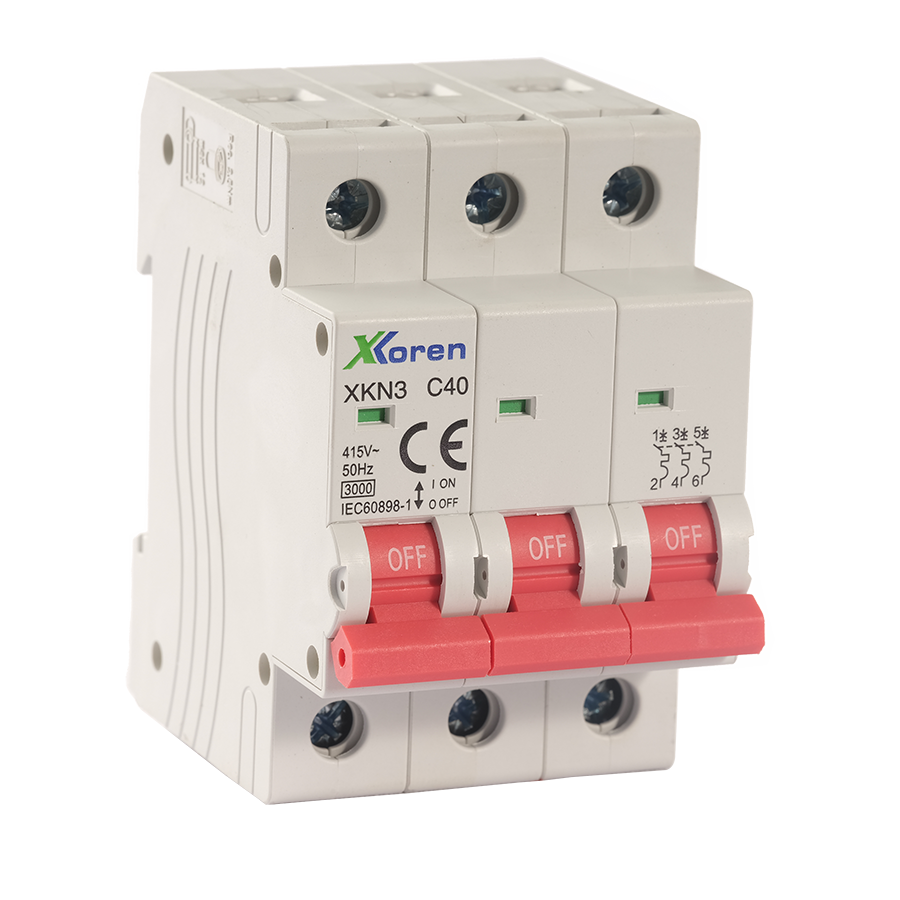devre_kesici: (99, 44, 783, 828)
